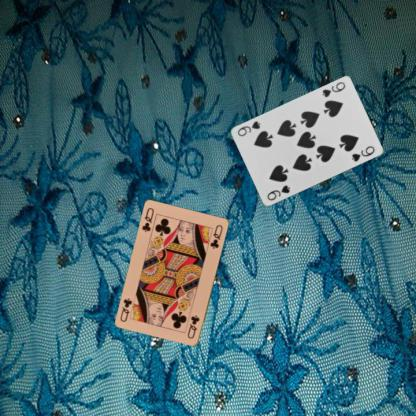9s: (319, 79, 347, 99), (264, 183, 291, 202)
Qc: (140, 205, 156, 234), (185, 313, 201, 340)
